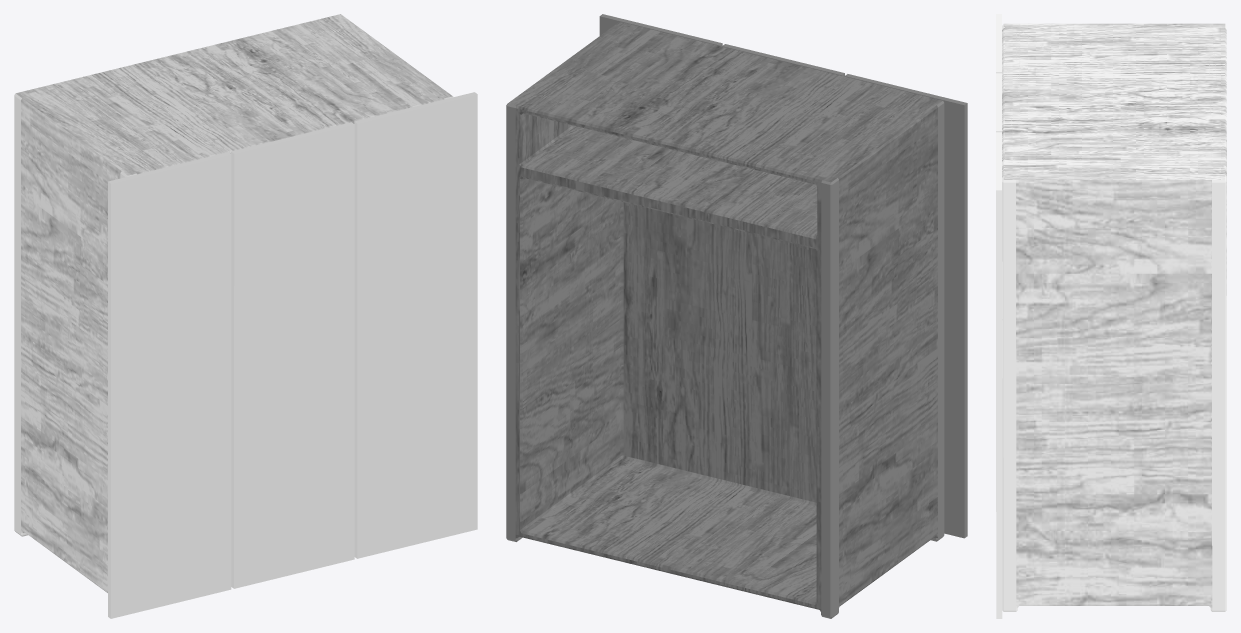
File: Mirror_b4c91061.obj
3 views of the same model, side by side, from view 1: azimuth 30°, elevation 25°; view 2: azimuth 150°, elevation 25°; view 3: azimuth 270°, elevation 25° (orthographic).
Parts seen in each view (by area): view 1: MirrorMesh_bb7167e0; view 2: MirrorMesh_bb7167e0; view 3: MirrorMesh_bb7167e0.
Boxes of the visible parts, x1,y1,x2,y2 form: MirrorMesh_bb7167e0: [14, 14, 477, 618]; MirrorMesh_bb7167e0: [506, 14, 967, 618]; MirrorMesh_bb7167e0: [996, 14, 1226, 618].
Bounding box in the file's own units: 0.842 × 0.9624 × 0.466.
